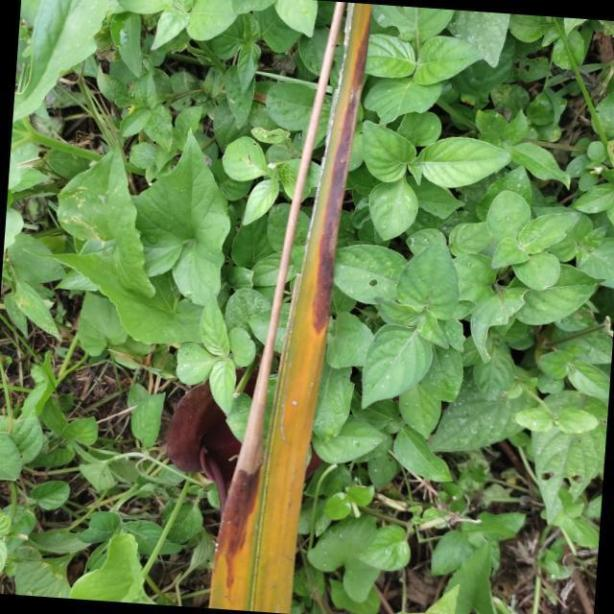Megnesium: (208, 0, 371, 614)
